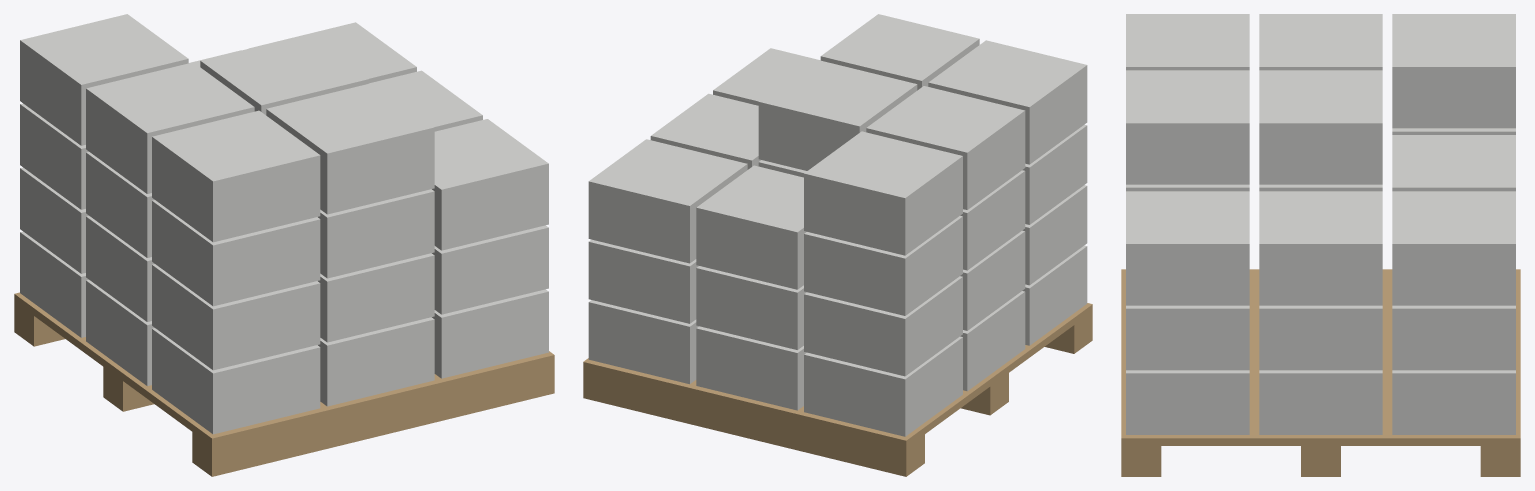
The model's file is pallet_mp_32.glb.
The picture shows the model from 3 angles, left to right: view 1: azimuth 30°, elevation 25°; view 2: azimuth 150°, elevation 25°; view 3: azimuth 270°, elevation 25°; orthographic projection. The views are drawn at different scales.
Parts seen in each view (by area): view 1: PalletMP; view 2: PalletMP; view 3: PalletMP.
Boxes of the visible parts, x1,y1,x2,y2 form: PalletMP: (14, 14, 554, 476); PalletMP: (583, 14, 1092, 476); PalletMP: (1121, 14, 1520, 476).
Bounding box in the file's own units: 1 × 0.8171 × 1.
